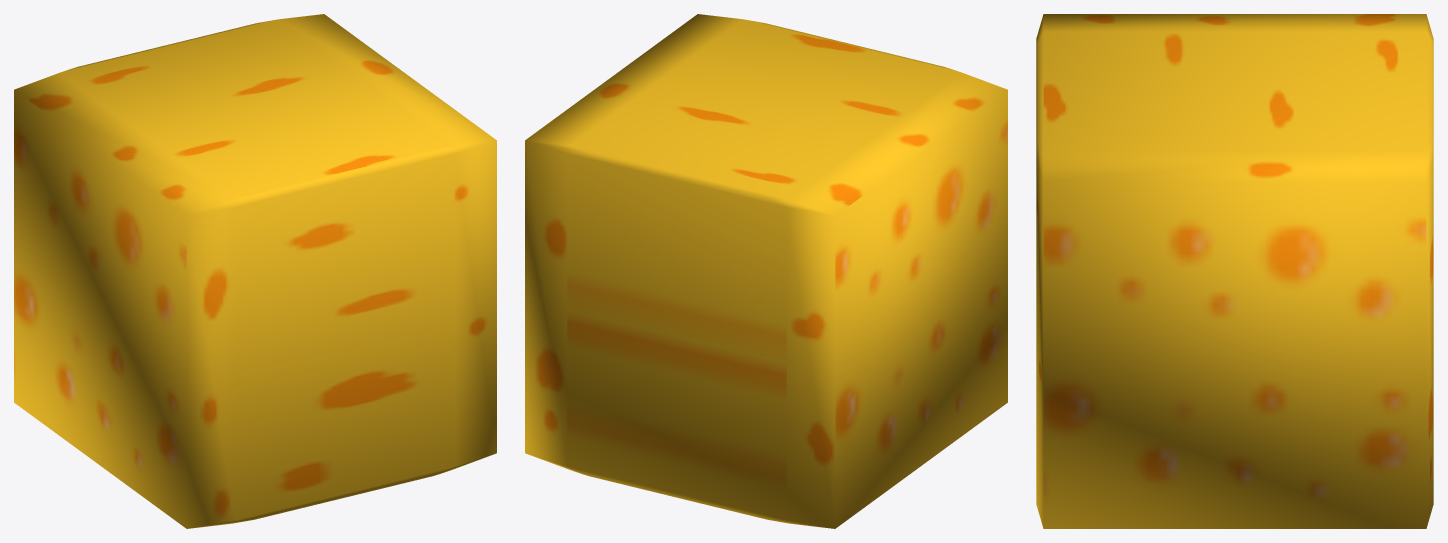
File: Cheese(1,1,1)-Dimentions.fbx
3 renders of one model, left to right at view 1: azimuth 30°, elevation 25°; view 2: azimuth 150°, elevation 25°; view 3: azimuth 270°, elevation 25°, orthographic. The views are drawn at different scales.
Visible parts, largest first — view 1: Cheese; view 2: Cheese; view 3: Cheese.
Part boxes in pixels (x1,y1,x2,y2): Cheese: (14,14,496,528); Cheese: (525,14,1007,528); Cheese: (1036,14,1433,528).
Bounding box in the file's own units: 1 × 1 × 1.
